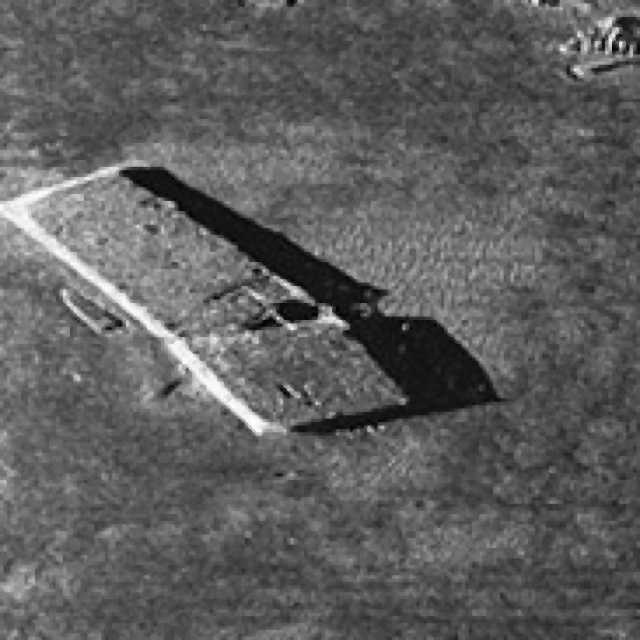Ship: (0, 148, 419, 450)
